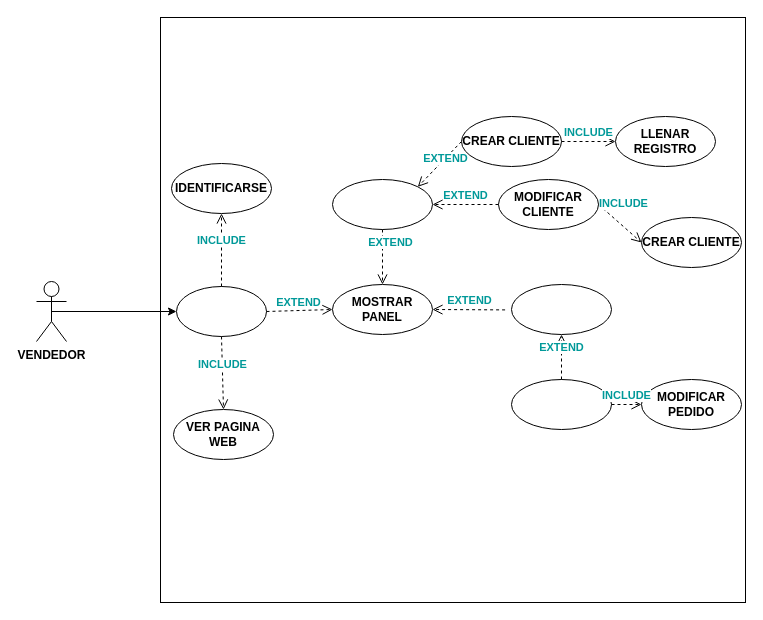
Image size: 763x620. Some labels were removed from this diagram. The centre of each missing label's shape, as x and y in pixels:
"ADMINISTRAR CLIENTES" goes at (x=382, y=204).
"ADMINISTRAR PEDIDOS" goes at (x=561, y=309).
"INGRESAR AL DASHBOARD" goes at (x=221, y=311).
"SELECCIONAR PEDIDO" goes at (x=561, y=404).
